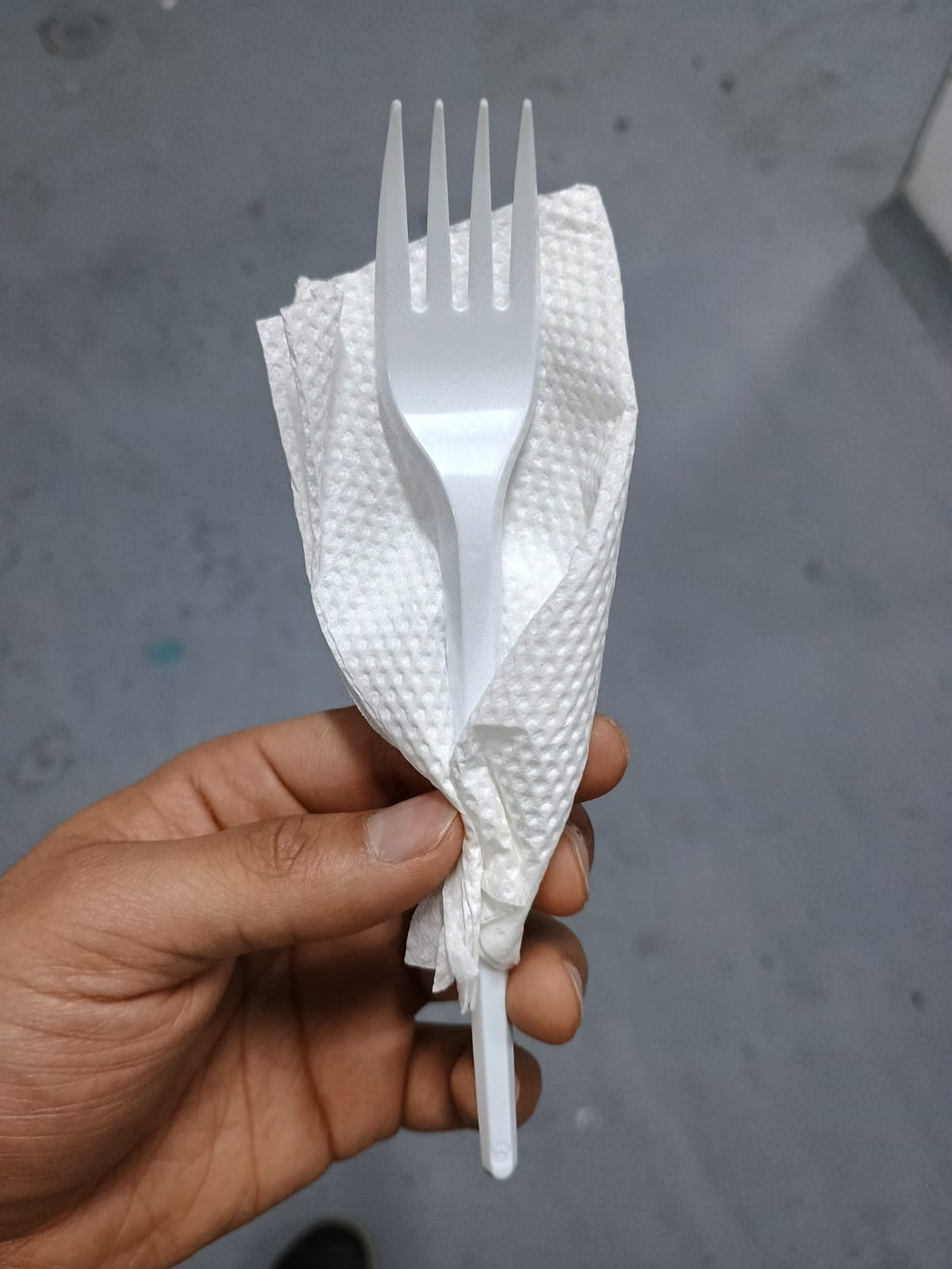Ordinario: (257, 99, 643, 1179)
